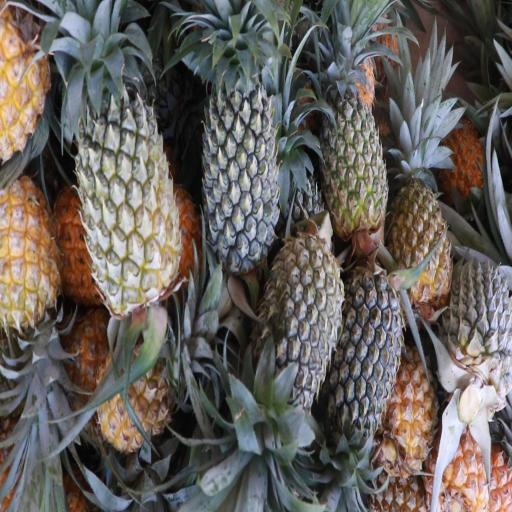------------------------------: (71, 70, 180, 303), (322, 68, 390, 236)
Pineapple - v8 v1: (100, 327, 212, 449), (0, 177, 65, 370), (388, 137, 454, 300), (380, 351, 445, 473)
